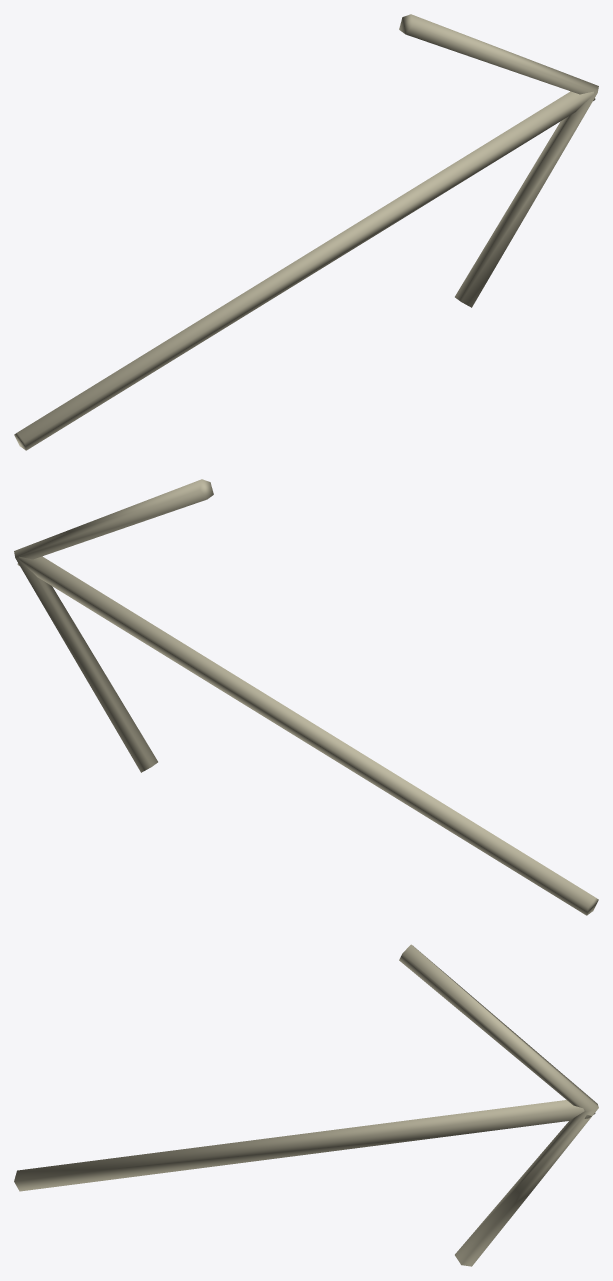
Rendered from chalk-arrow.glb.
3 renders of one model, top to bottom at view 1: azimuth 30°, elevation 25°; view 2: azimuth 150°, elevation 25°; view 3: azimuth 330°, elevation 25°, orthographic.
Parts seen in each view (by area): view 1: Surface; view 2: Surface; view 3: Surface.
Boxes of the visible parts, x1,y1,x2,y2 form: Surface: (14,14,598,450); Surface: (14,479,598,915); Surface: (14,944,598,1266).
Bounding box in the file's own units: 0.6031 × 0.3363 × 0.019.
